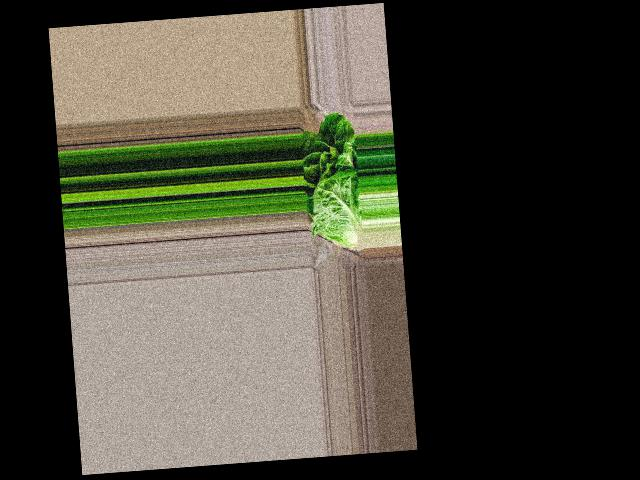lettuce: (299, 120, 363, 250)
